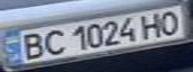0: (84, 20, 106, 48)
1: (66, 22, 87, 51)
2: (100, 18, 124, 46)
4: (115, 14, 142, 43)
B: (15, 30, 48, 61)
C: (39, 27, 69, 56)
H: (136, 10, 166, 39)
O: (154, 8, 187, 35)
